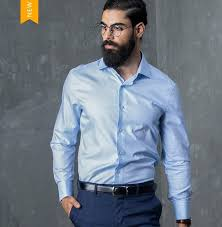F_belt: (74, 177, 159, 197)
F_dress pants: (68, 180, 164, 227)
F_shirt: (38, 57, 200, 219)
